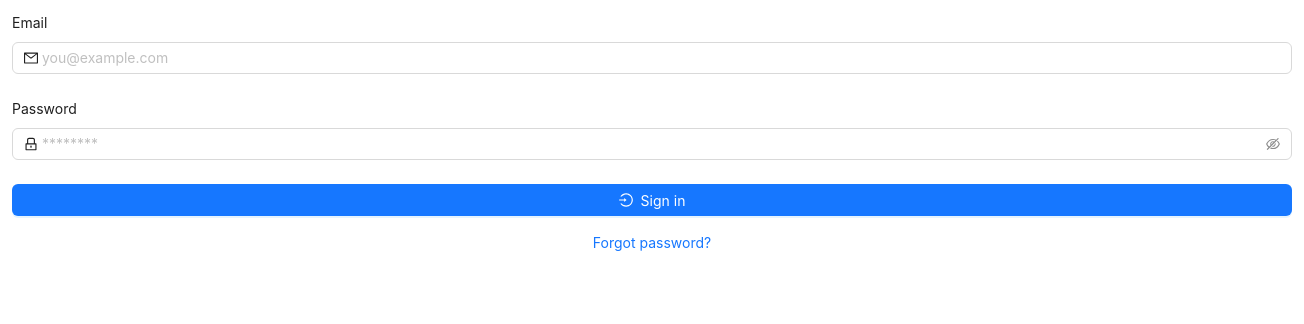
it: LoginPage › shows the contact-your-admin message when an Org User's plan has expired
The width and height of the screenshot is (1304, 324).
Type "uma@acme.com" into the field labelled "Email" at (661, 58), box [42,47,1280,69]
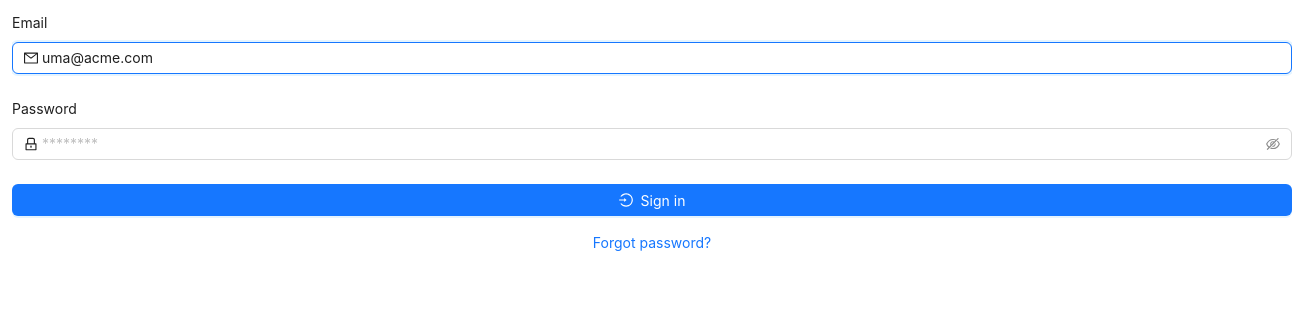
Type "secret123" into the password field labelled "Password" at (652, 144), box [42,133,1262,155]
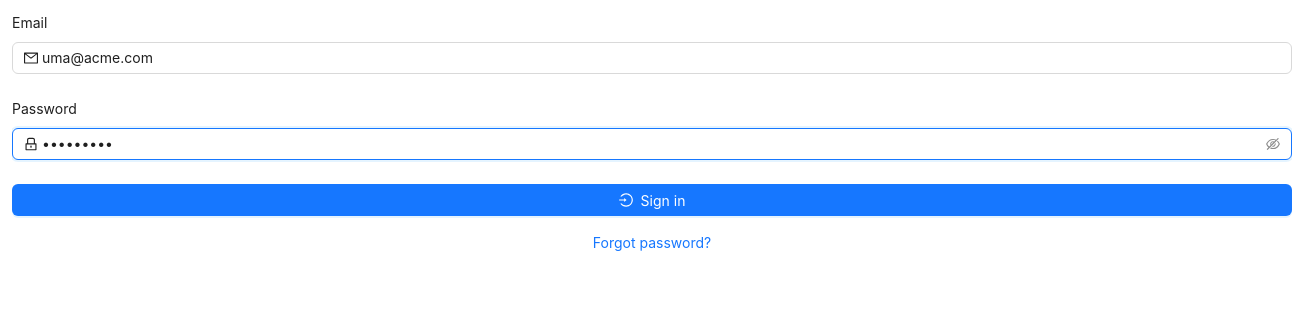
Click the button "Sign in" at (652, 200), box [12,184,1292,216]
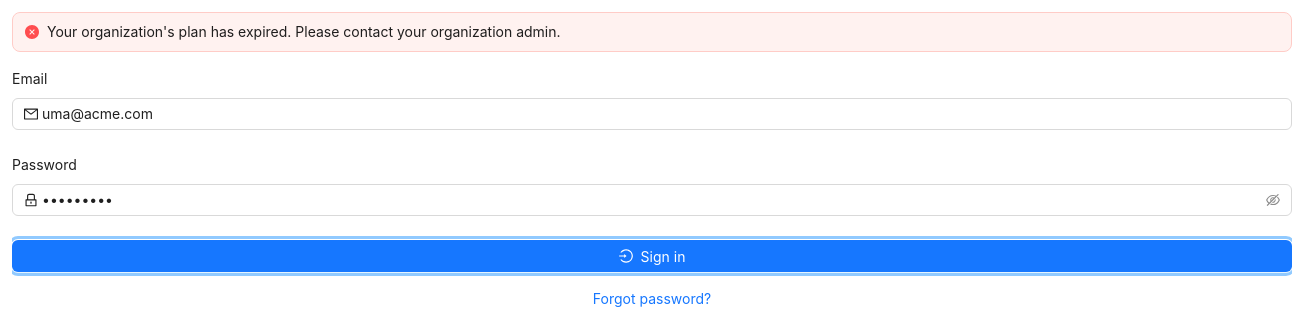
Now the text "Your organization's plan has expired. Please contact your organization admin." is shown, box [47,23,561,40]
